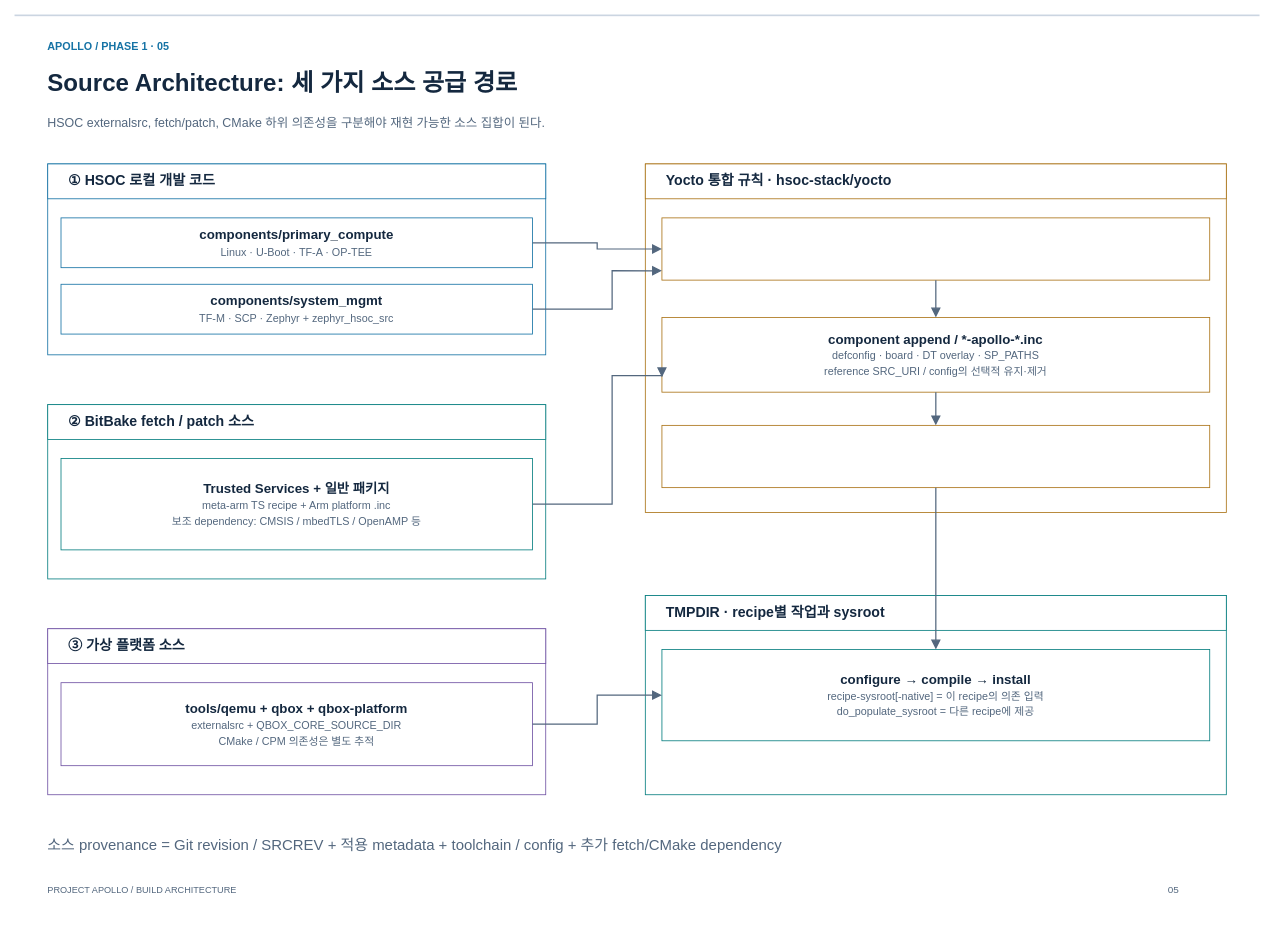
The diagram is 1273 pixels wide and 925 high, and some of its shapes have lost their labels. Here are the shapes that lost their labels. From the top down, the box of each, then its label:
(661, 217, 1210, 280): HSOC_APOLLO_*_SRC → EXTERNALSRC 로컬 checkout을 S로 선택 / B는 WORKDIR/build
(661, 425, 1210, 488): cross / native recipe class 타깃 ABI와 호스트 실행 ABI를 별도 빌드
